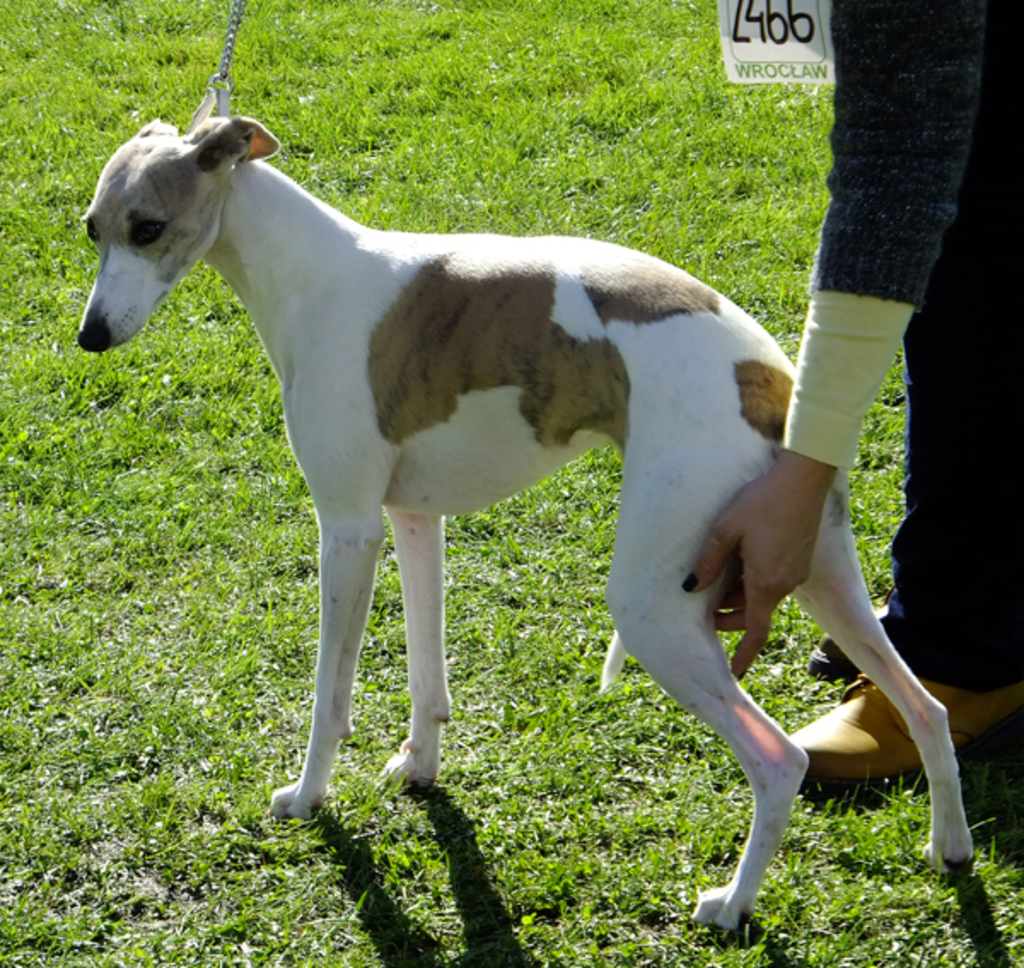Human_hand: (680, 469, 827, 677)
